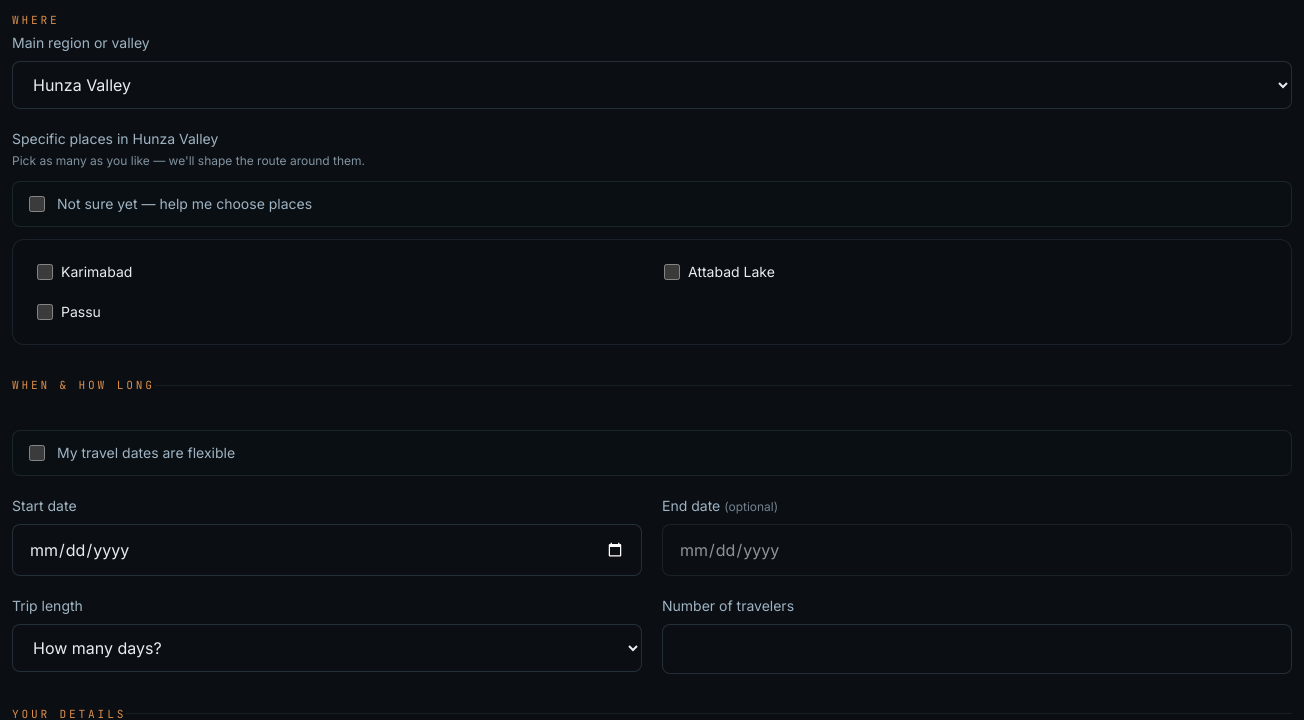
Test case: ContactForm › resets selected places when the region changes
Click the checkbox labelled "Karimabad": x=45, y=272 top-left (37, 264), bottom-right (53, 280)
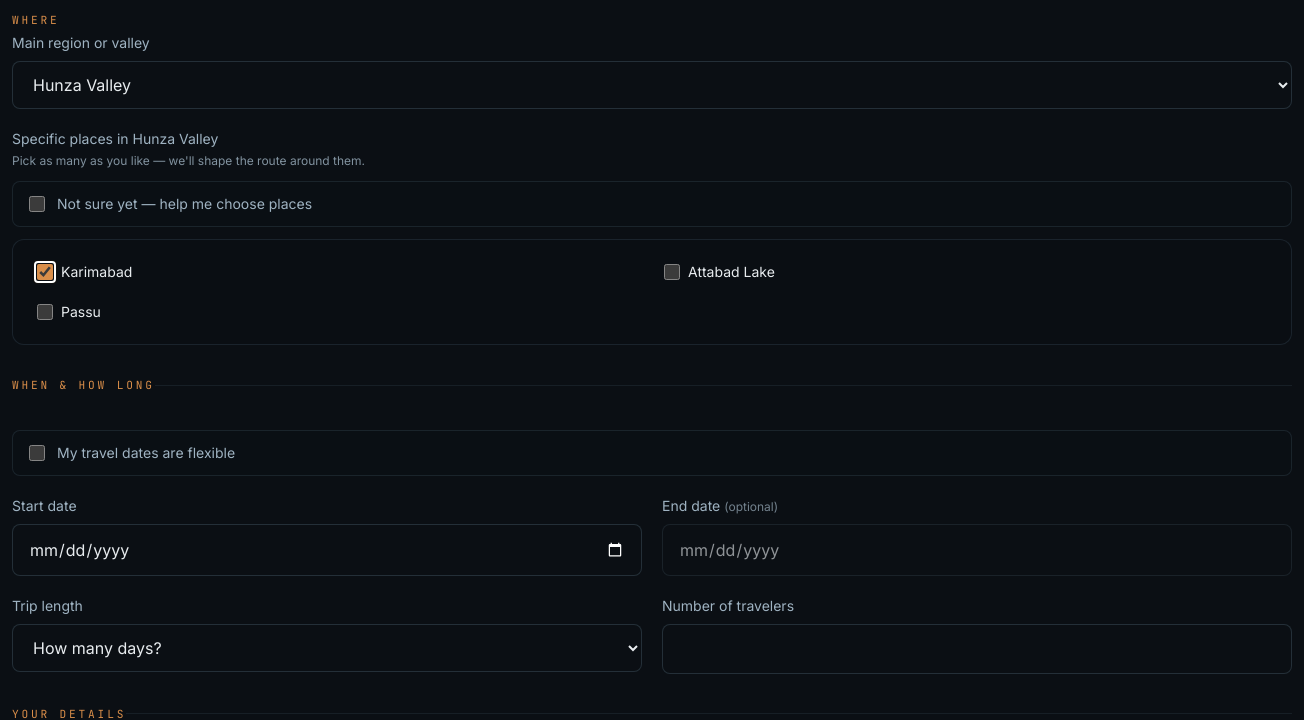
Now the checkbox labelled "Karimabad" is checked, box top-left (37, 264), bottom-right (53, 280)
Select "Skardu" in the dropdown labelled "Main region or valley": x=652, y=85 top-left (12, 61), bottom-right (1292, 109)
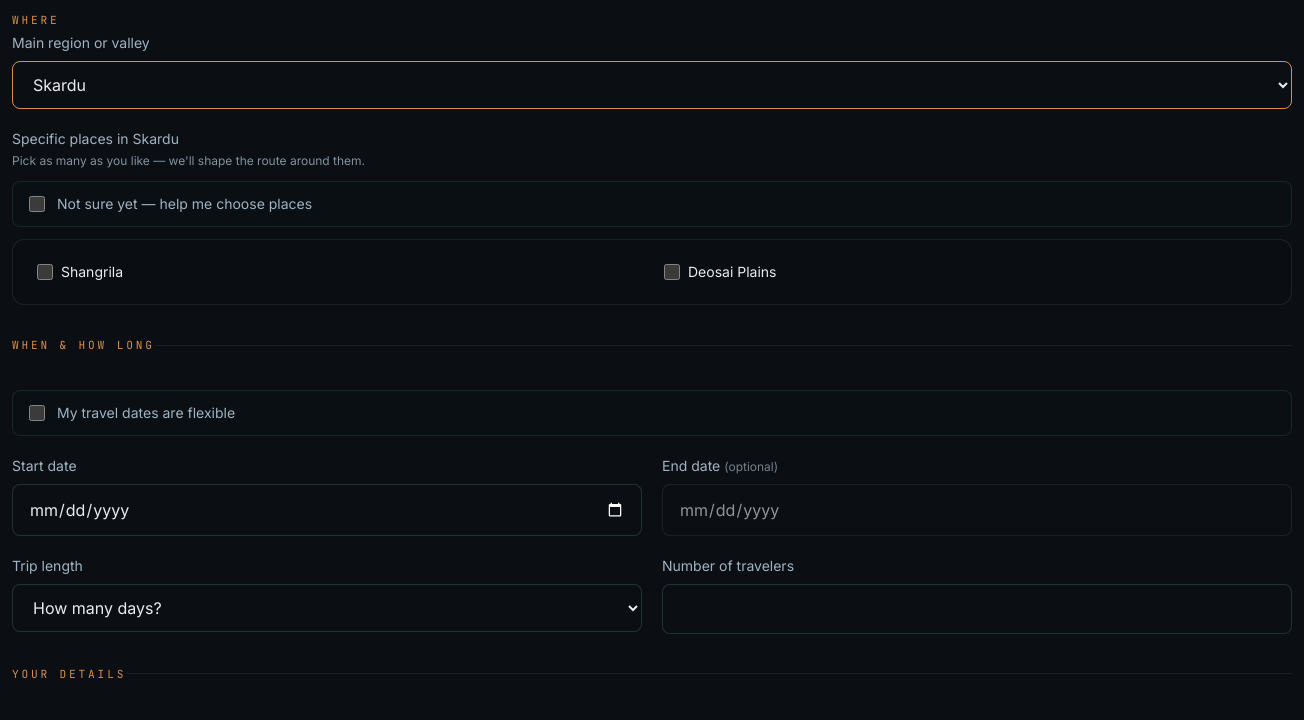
Expected: the checkbox labelled "Deosai Plains" is not checked, top-left (664, 264), bottom-right (680, 280)
Now the text labelled "Karimabad" is gone
Now the checkbox labelled "Shangrila" is not checked, box top-left (37, 264), bottom-right (53, 280)
